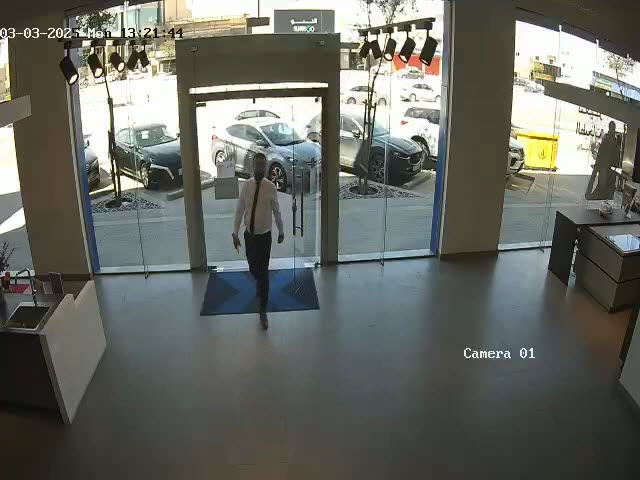male: (232, 152, 285, 329)
